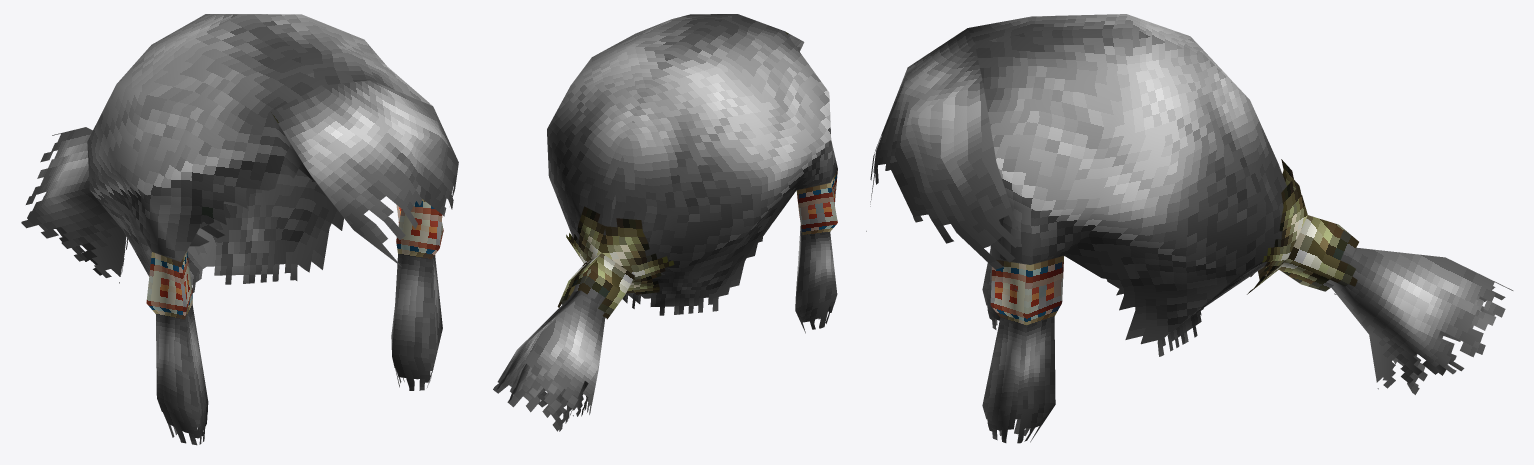
Rendered from f_hair000.obj.
The picture shows the model from 3 angles, left to right: view 1: azimuth 30°, elevation 25°; view 2: azimuth 150°, elevation 25°; view 3: azimuth 270°, elevation 25°; orthographic projection. The views are drawn at different scales.
Parts seen in each view (by area): view 1: editpl_f-0000-1883, editpl_f-0000-1884; view 2: editpl_f-0000-1883, editpl_f-0000-1884; view 3: editpl_f-0000-1883, editpl_f-0000-1884.
Part boxes in pixels (x1,y1,x2,y2): editpl_f-0000-1883: (21,14,458,445); editpl_f-0000-1884: (146,199,443,319); editpl_f-0000-1883: (493,14,837,431); editpl_f-0000-1884: (557,169,837,319); editpl_f-0000-1883: (866,14,1513,443); editpl_f-0000-1884: (990,159,1358,325).
Bounding box in the file's own units: 21.26 × 25.79 × 39.84.
